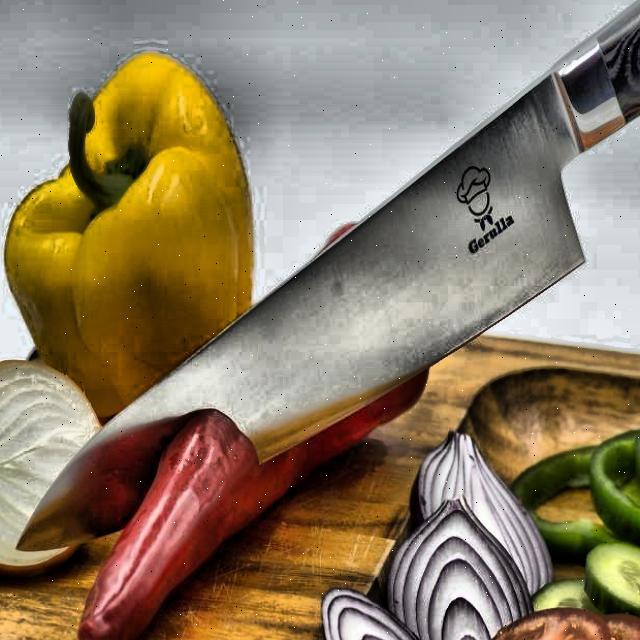knife: (14, 0, 640, 570)
